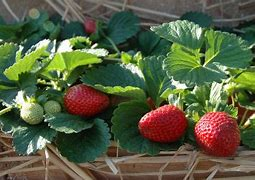Fresa: (192, 108, 242, 161), (137, 103, 191, 143), (64, 83, 110, 116)
